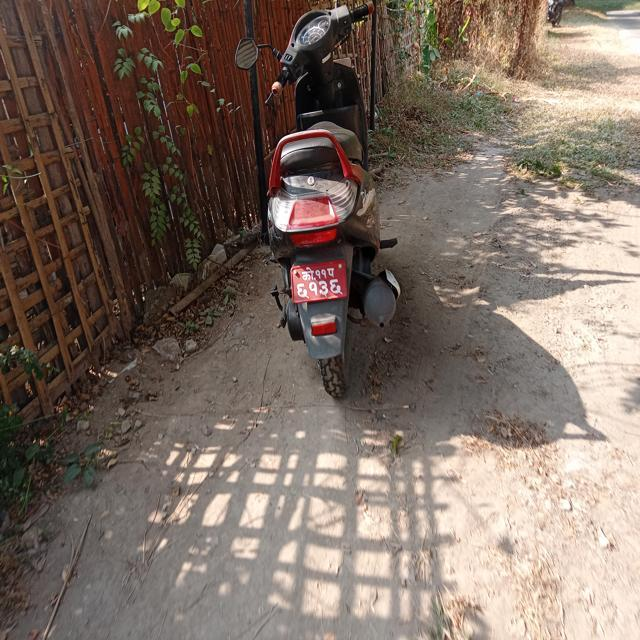license_plate: (279, 255, 364, 306)
